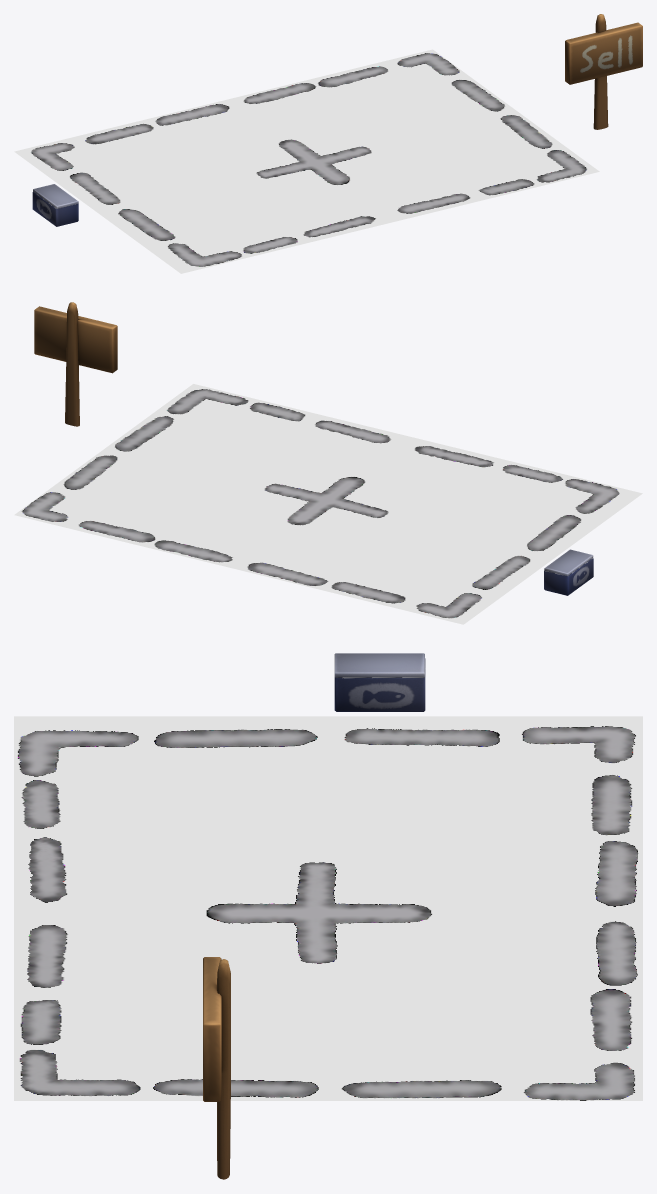
The model's file is sell_asset.fbx.
3 views of the same model, one above another, from view 1: azimuth 30°, elevation 25°; view 2: azimuth 150°, elevation 25°; view 3: azimuth 270°, elevation 25° (orthographic). The views are drawn at different scales.
Parts seen in each view (by area): view 1: sell_area, sell, box_fish; view 2: sell_area, sell, box_fish; view 3: sell_area, box_fish, sell.
Part boxes in pixels (x1,y1,x2,y2): sell_area: (14,49,599,273); sell: (565,14,642,129); box_fish: (32,184,78,226); sell_area: (14,384,642,624); sell: (34,302,117,426); box_fish: (544,549,593,595); sell_area: (14,716,642,1100); box_fish: (334,653,425,711); sell: (203,957,230,1179).
Bounding box in the file's own units: 1302 × 256 × 682.
Materials: 1 (1 with a texture image).
